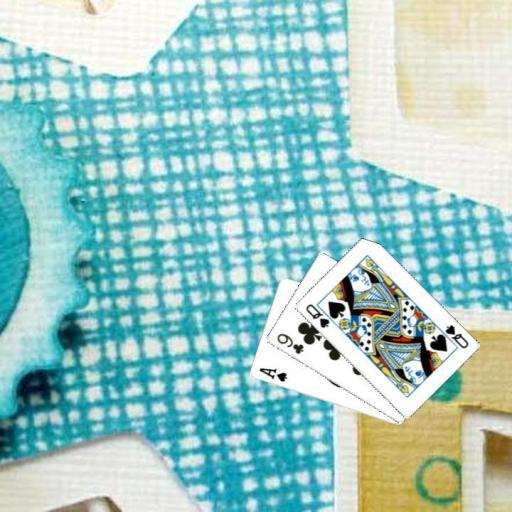9C: (273, 330, 305, 356)
AS: (256, 365, 288, 383)
QS: (302, 301, 331, 329), (442, 321, 470, 350)
